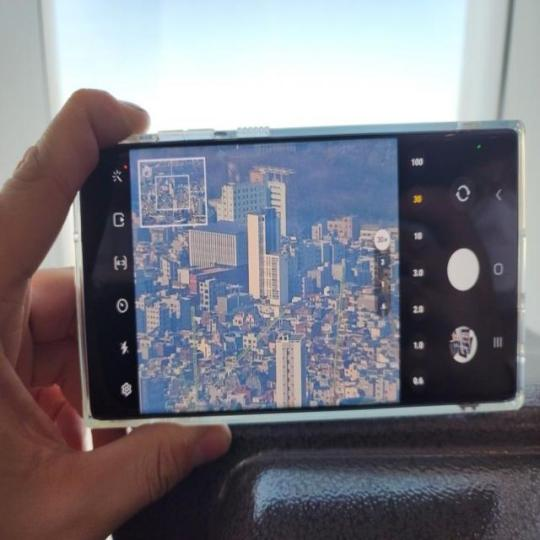phone: (38, 128, 534, 414)
